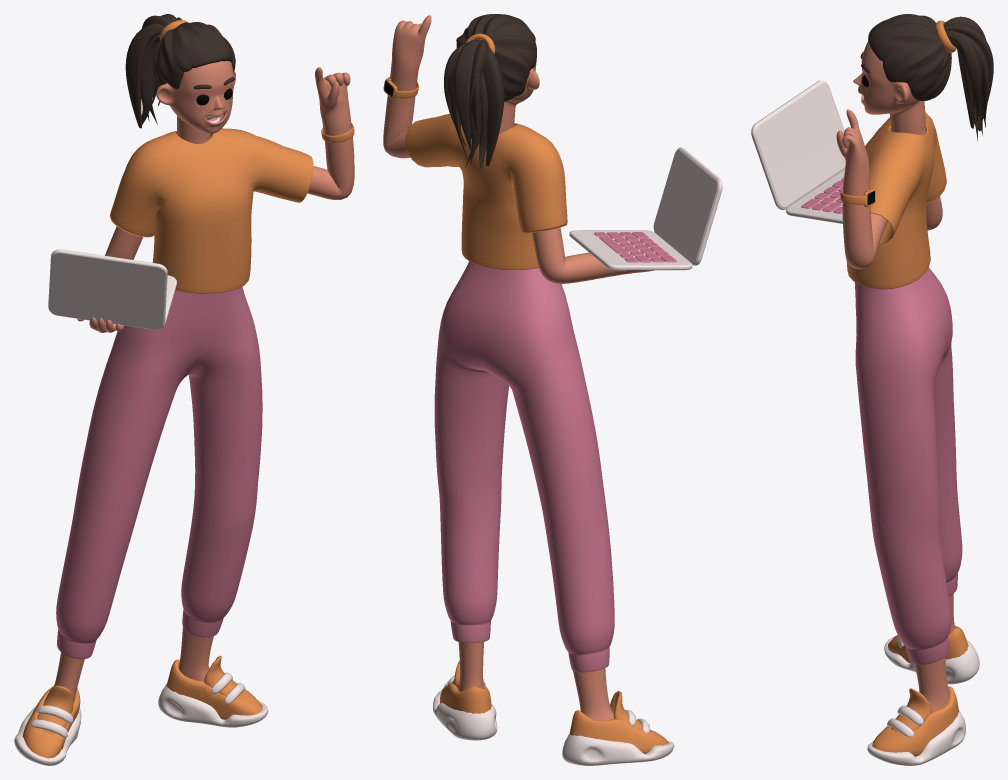
File: icons8_girl_holding_laptop_and_having_an_idea.fbx
The picture shows the model from 3 angles, left to right: view 1: azimuth 30°, elevation 25°; view 2: azimuth 150°, elevation 25°; view 3: azimuth 270°, elevation 25°; orthographic projection. The views are drawn at different scales.
Parts seen in each view (by area): view 1: icons8_girl_holding_laptop_and_having_an_idea; view 2: icons8_girl_holding_laptop_and_having_an_idea; view 3: icons8_girl_holding_laptop_and_having_an_idea.
Part boxes in pixels (bbox=[...]): icons8_girl_holding_laptop_and_having_an_idea: bbox=[14, 14, 354, 765]; icons8_girl_holding_laptop_and_having_an_idea: bbox=[383, 14, 722, 765]; icons8_girl_holding_laptop_and_having_an_idea: bbox=[751, 14, 993, 765].
Bounding box in the file's own units: 152 × 320 × 97.53.
Materials: 2 (2 with a texture image).
